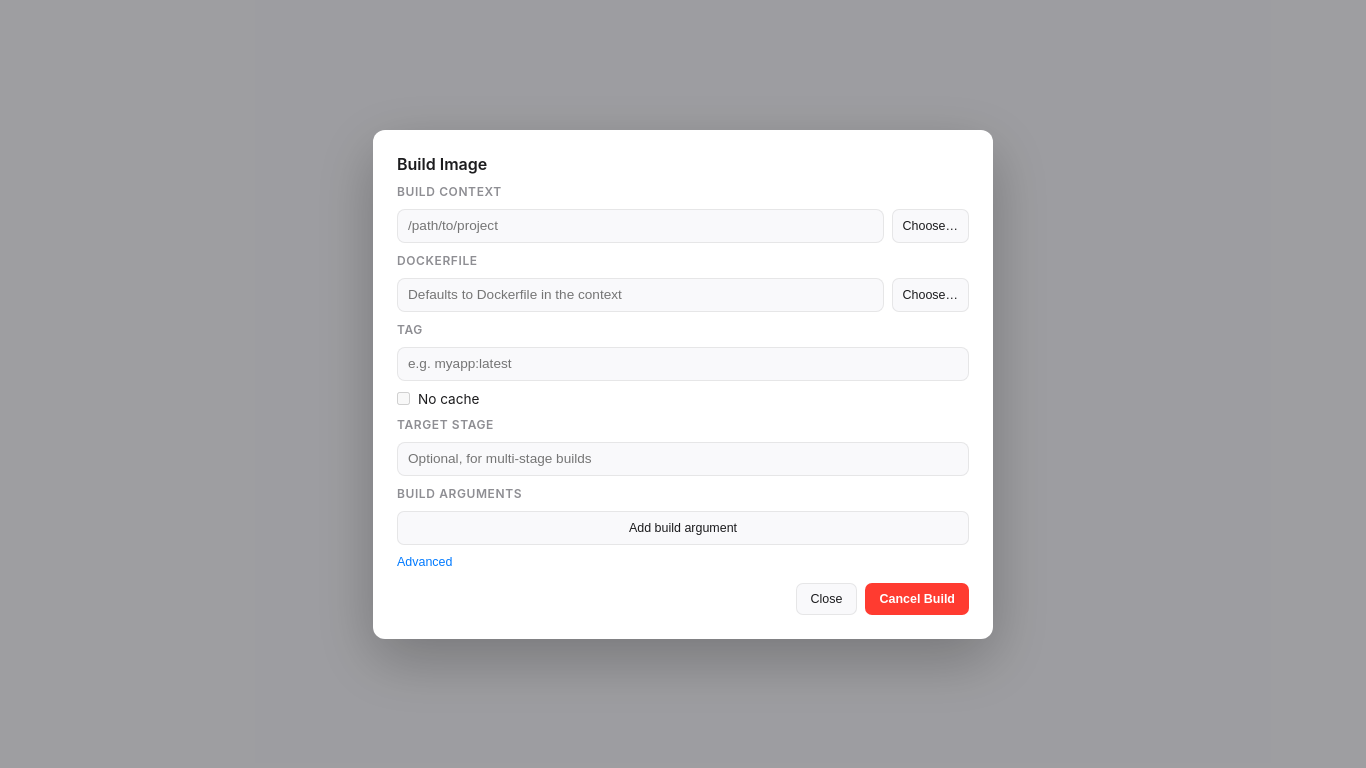
it: BuildModal › clears the previous error when Cancel is retried
The image size is (1366, 768).
Click the button "Cancel Build".
click(917, 598)  # box [866,582,969,614]
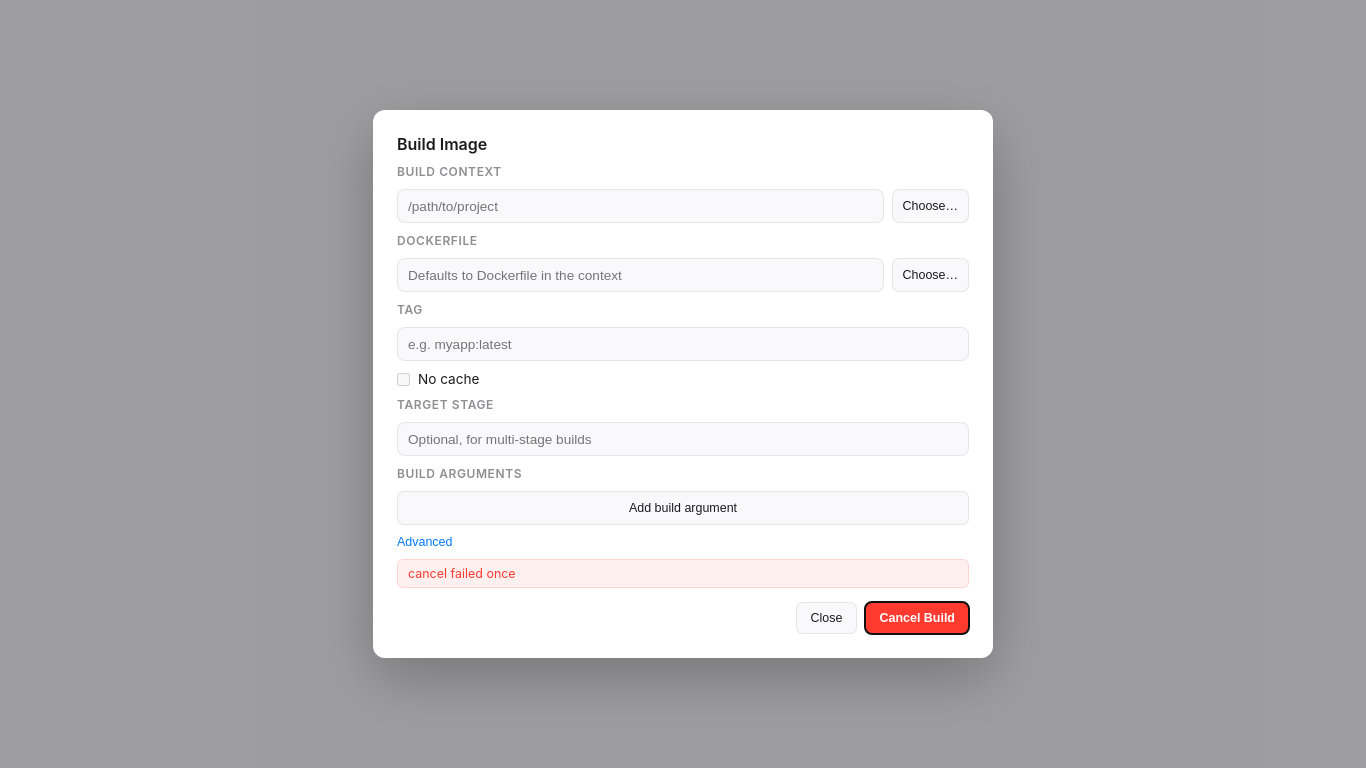
Result: the text "cancel failed once" is shown at [397,559,969,588]
Click the button "Cancel Build".
click(917, 618)  # box [866,602,969,634]
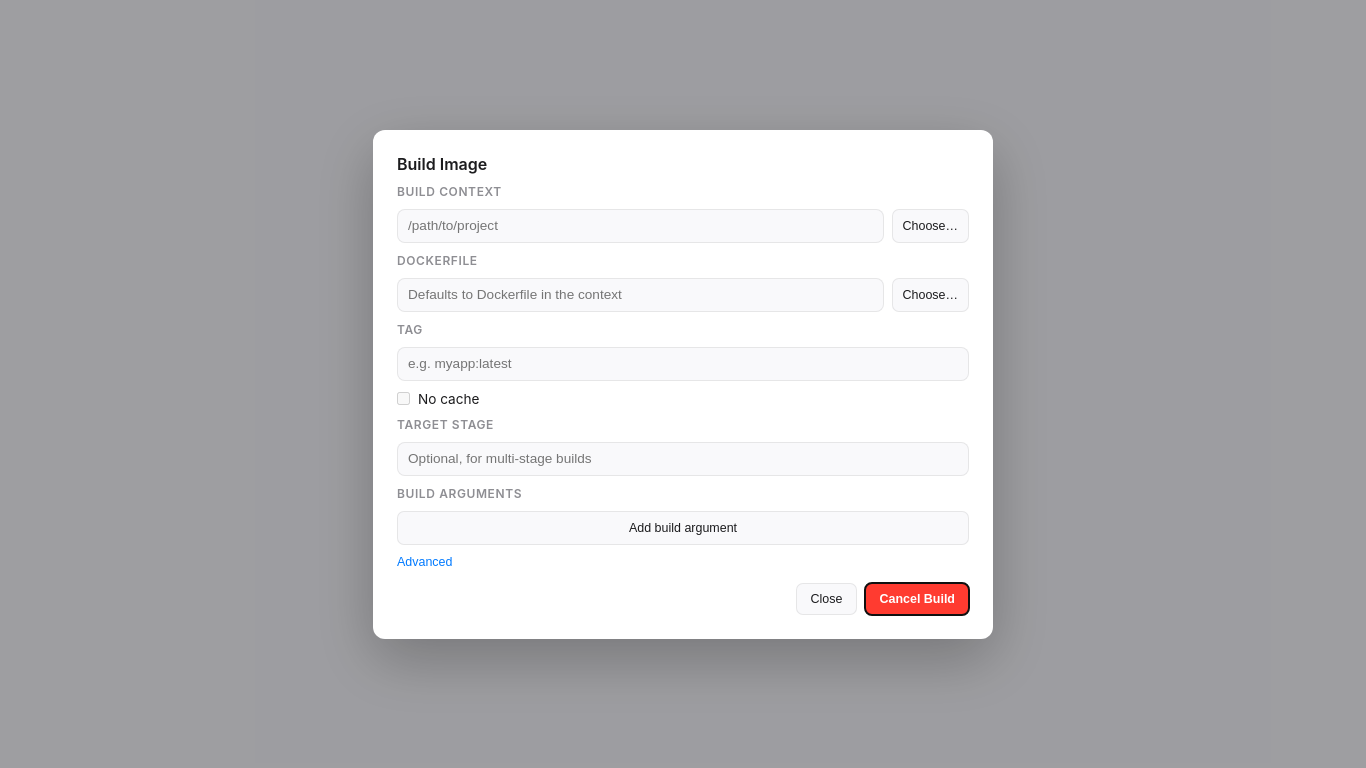
Result: the text "cancel failed once" is gone
